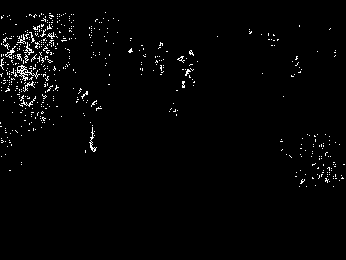person: (74, 88, 101, 155)
